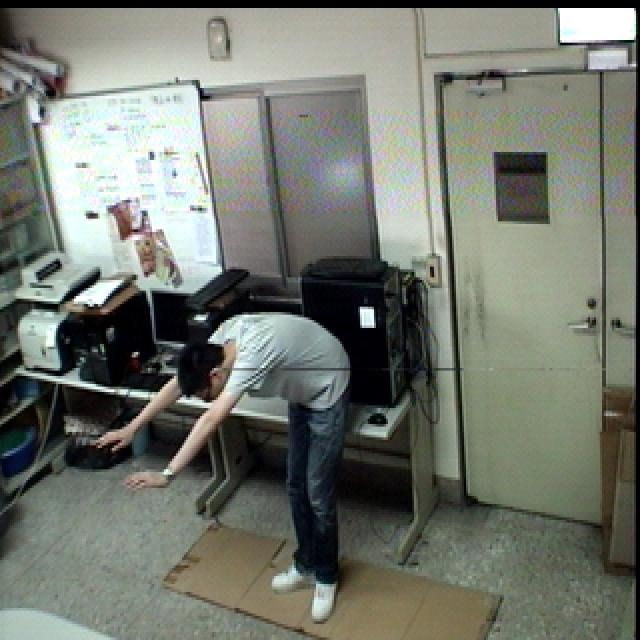bend: (85, 307, 358, 627)
